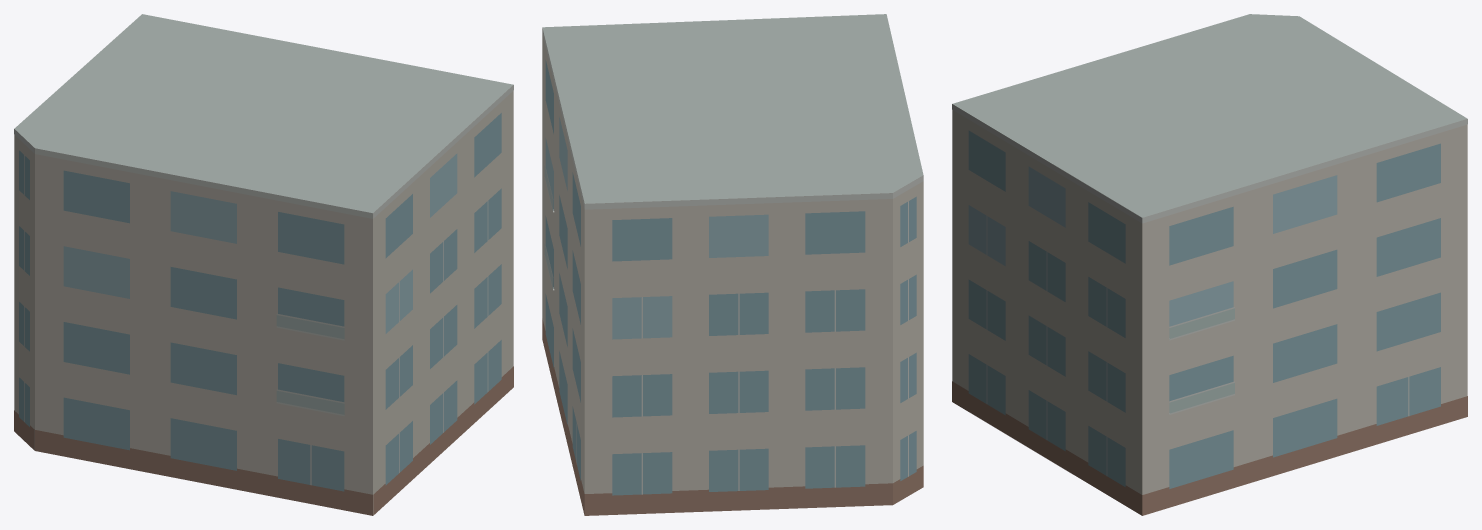
Rendered from survey-upis-32804259.glb.
3 views of the same model, side by side, from view 1: azimuth 30°, elevation 25°; view 2: azimuth 150°, elevation 25°; view 3: azimuth 270°, elevation 25° (orthographic). The views are drawn at different scales.
Parts seen in each view (by area): view 1: survey-upis-32804259.tmp; view 2: survey-upis-32804259.tmp; view 3: survey-upis-32804259.tmp.
Boxes of the visible parts, bbox=[...] form: survey-upis-32804259.tmp: bbox=[14, 14, 513, 515]; survey-upis-32804259.tmp: bbox=[542, 14, 923, 515]; survey-upis-32804259.tmp: bbox=[952, 14, 1467, 515].
Size of the model in its own units: 18.79 by 12.8 by 20.08.
